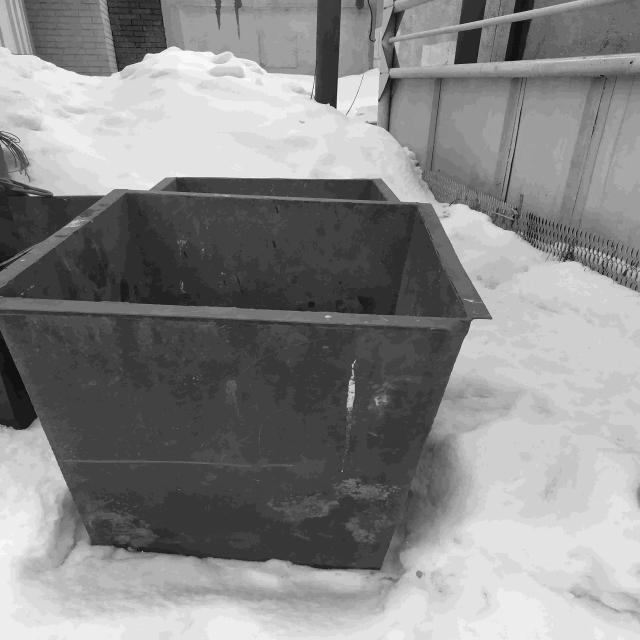Trashcan: (2, 159, 507, 580)
